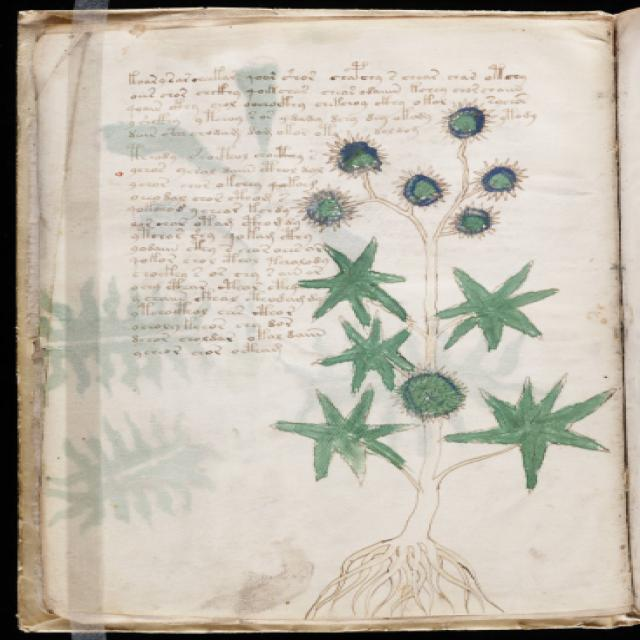plant: (266, 101, 618, 620)
